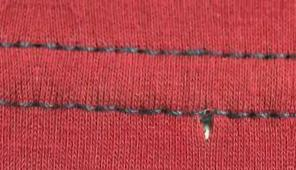hole: (197, 116, 216, 144)
